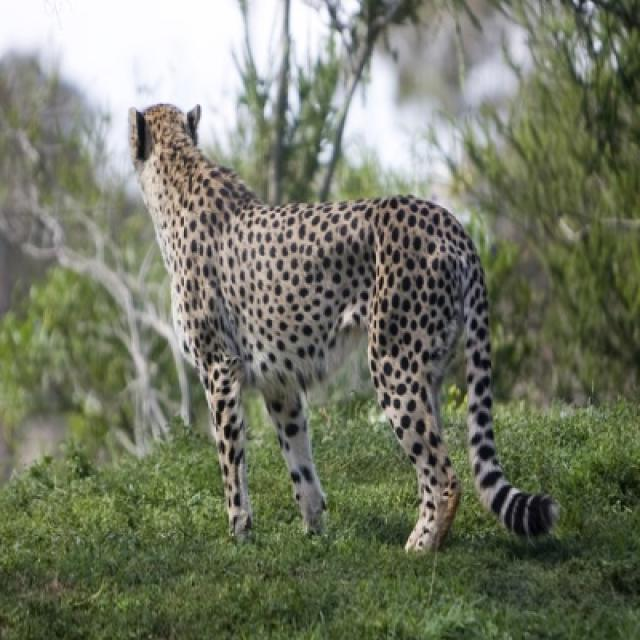Cheetah: (128, 104, 560, 554)
